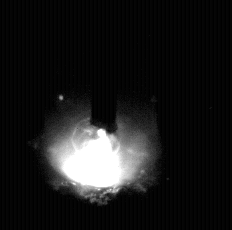arame: (92, 0, 118, 133)
poca: (45, 0, 163, 230)
